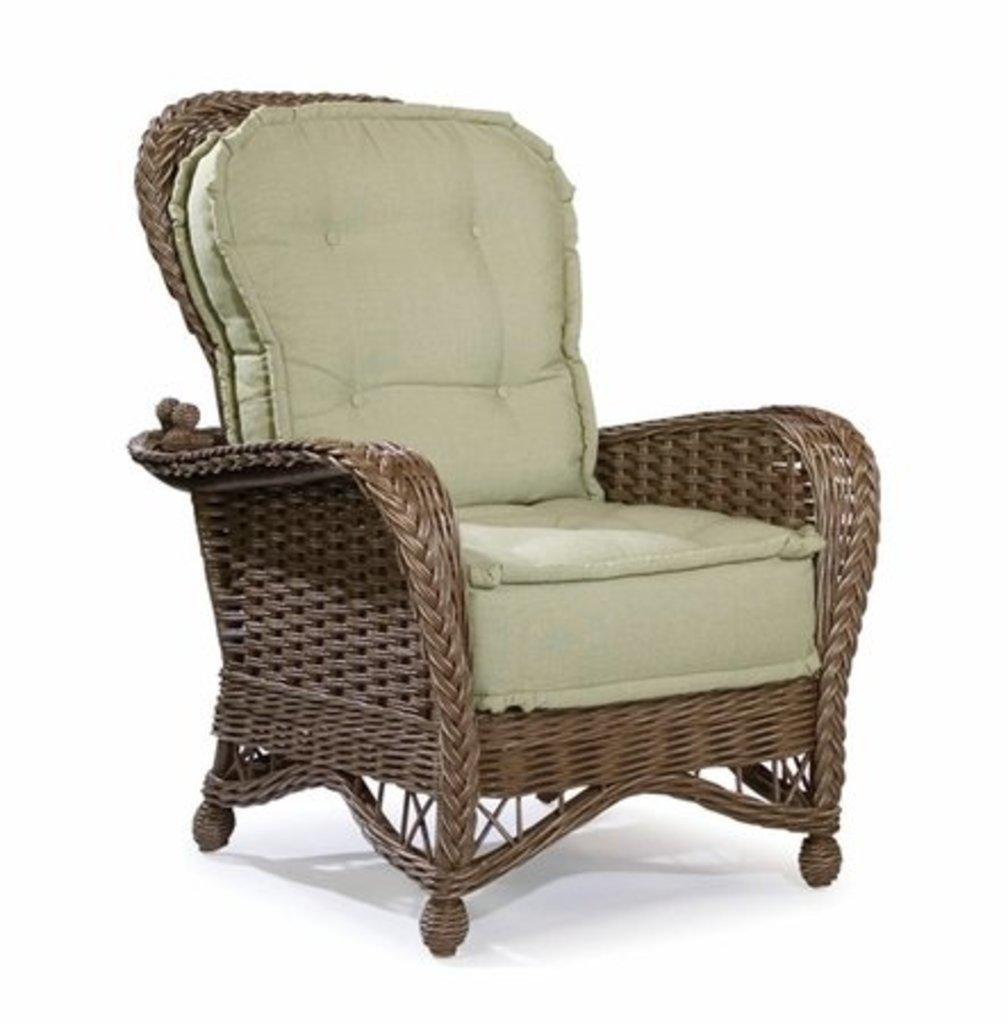Chair: (134, 102, 885, 960)
